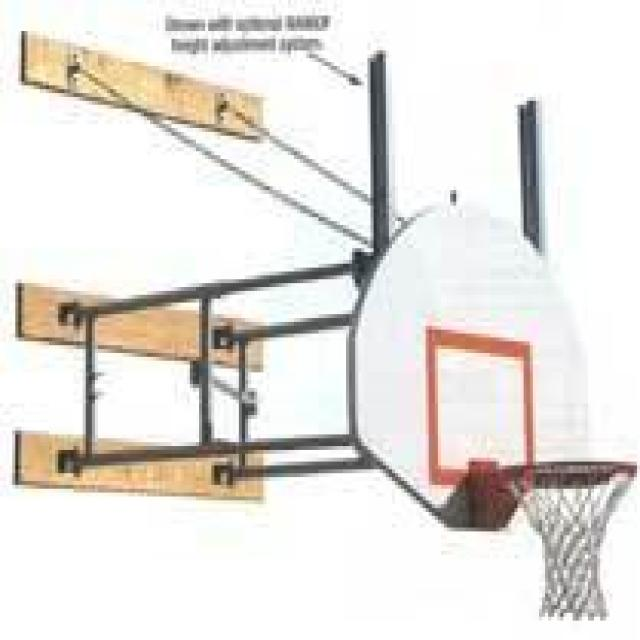hoop: (460, 435, 640, 635)
